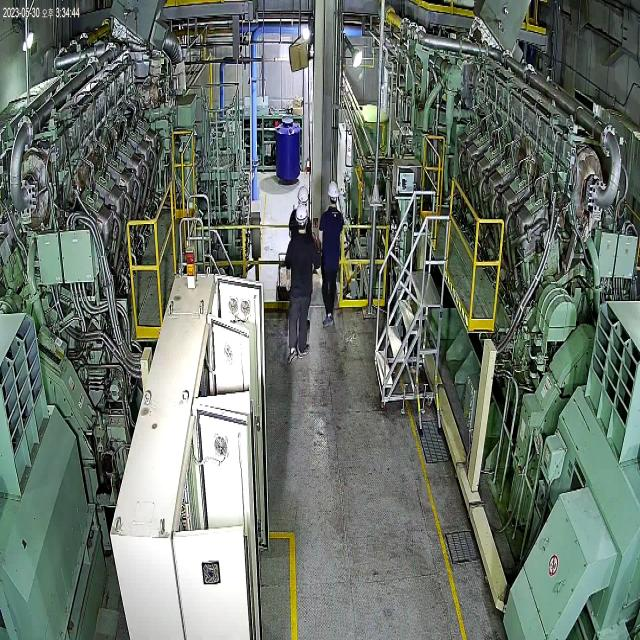Water Tank: (273, 110, 302, 188)
worker: (282, 200, 320, 368), (284, 177, 321, 325), (314, 178, 348, 328)
